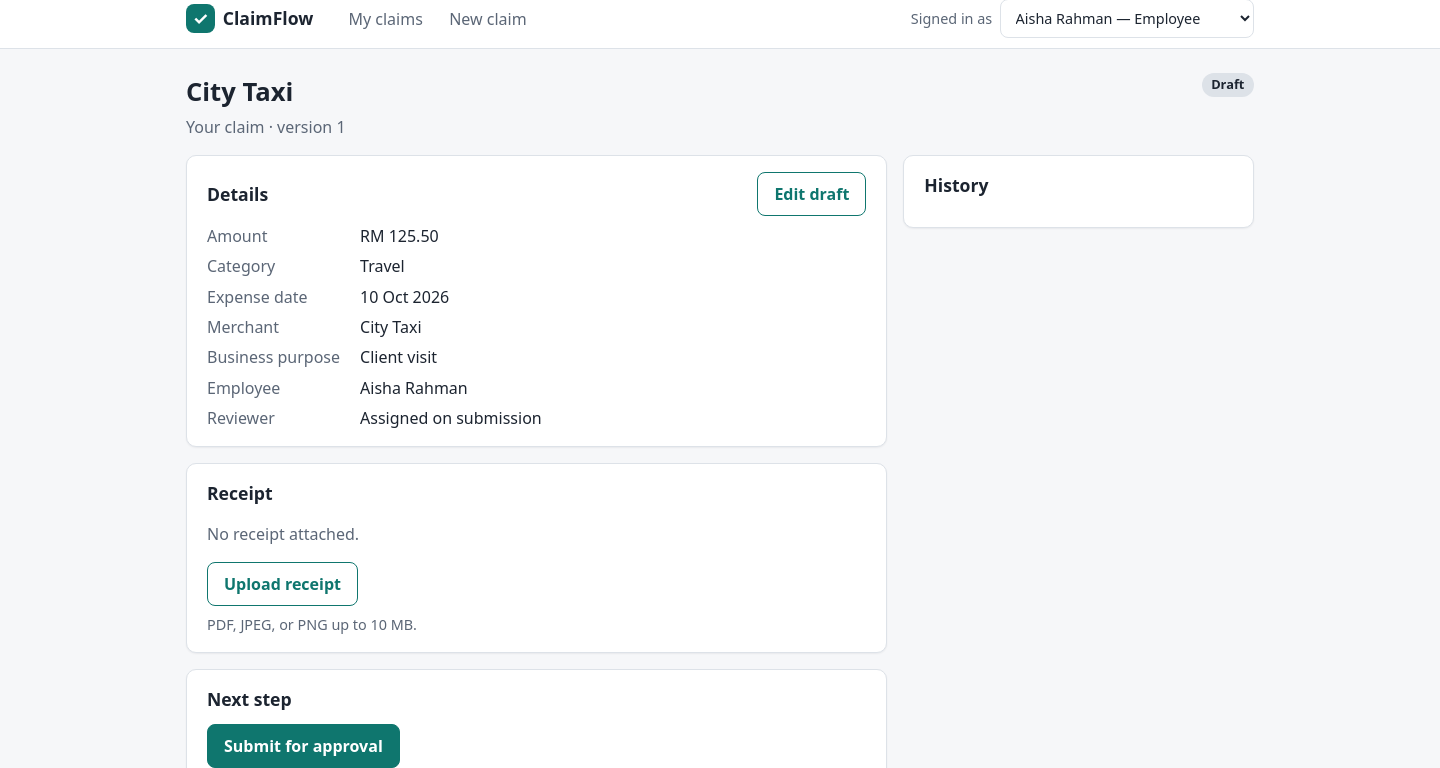
Test case: claim details › submits and reports policy problems from the server
Click the button "Submit for approval" at (303, 746), box 207,724 -> 400,767
(page scrolled)
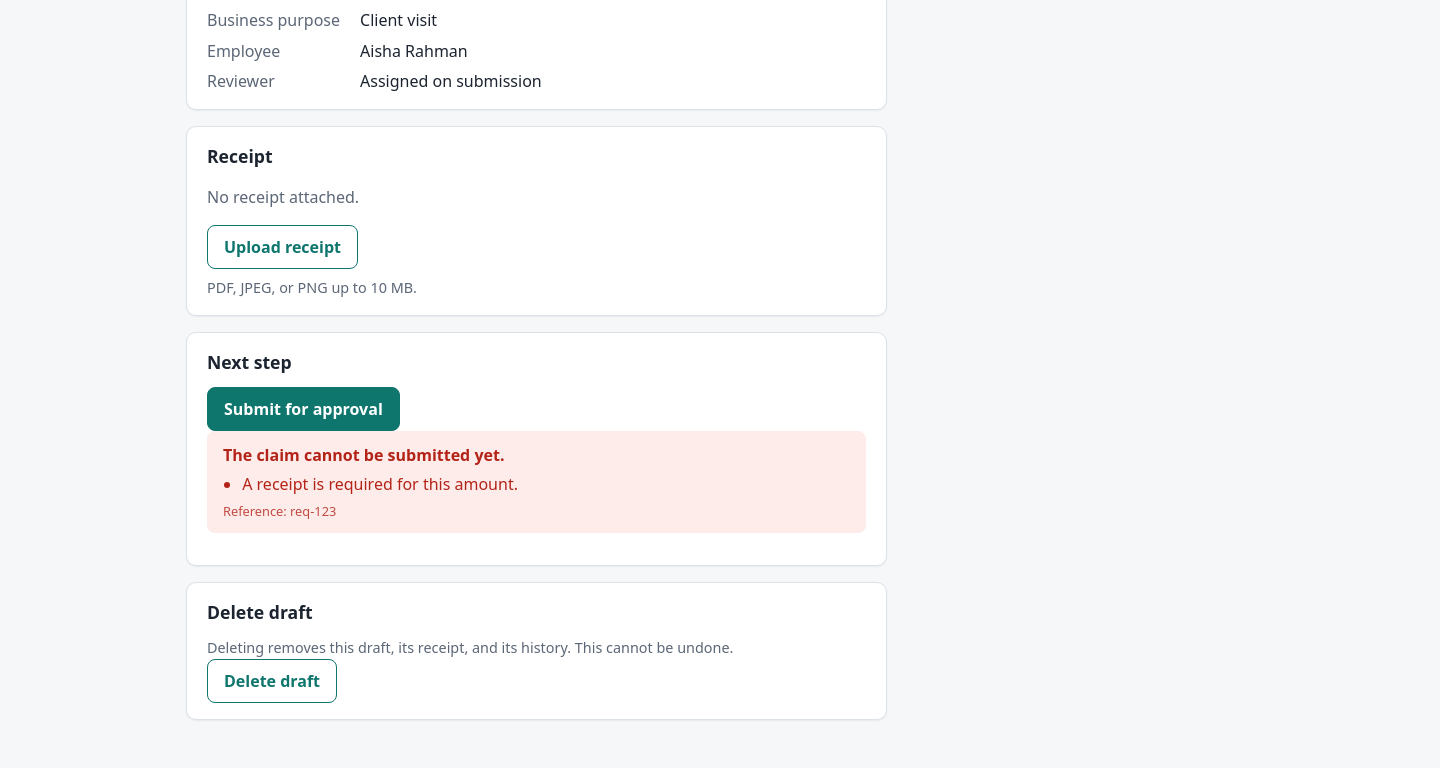
expect the list item "A receipt is required for this amount." is shown: met, box 242,472 -> 518,496
